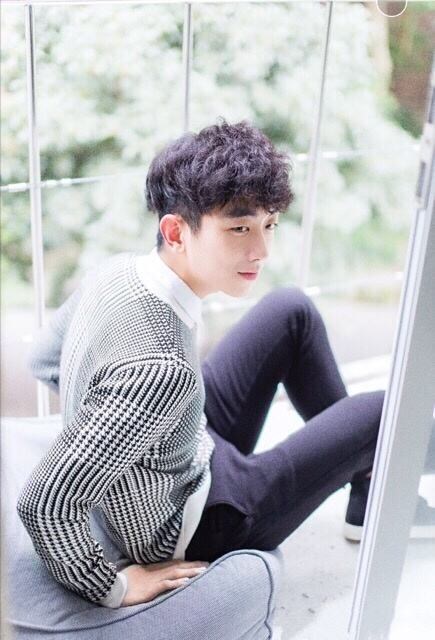person: (87, 126, 337, 579)
